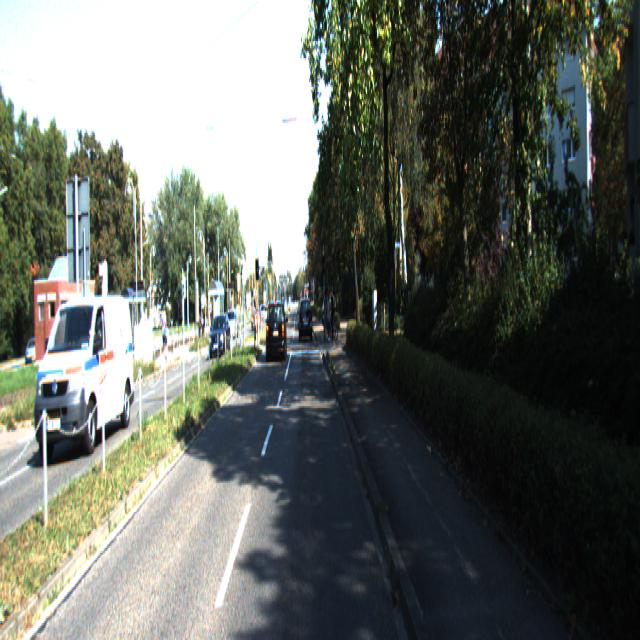Car: (34, 291, 138, 457), (266, 302, 288, 365), (209, 316, 231, 362), (299, 298, 313, 344)
